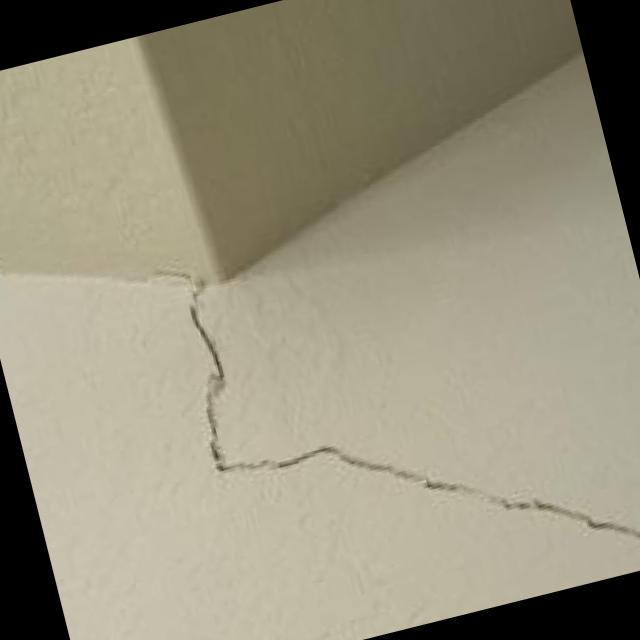crack: (189, 275, 640, 538)
